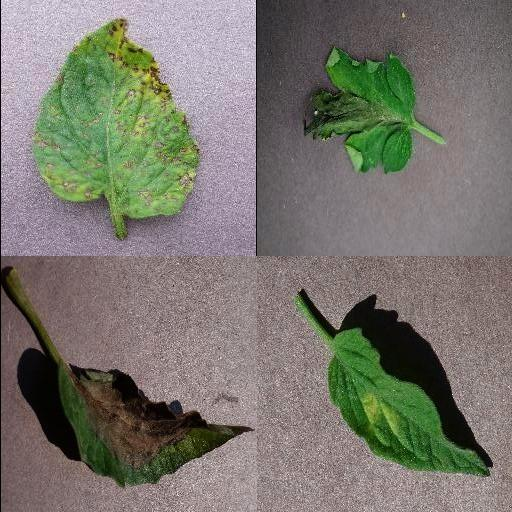Late Blight: (57, 356, 256, 486), (300, 47, 418, 179)
Leaf Mold: (328, 328, 490, 476)
Septoria: (31, 18, 199, 220)
